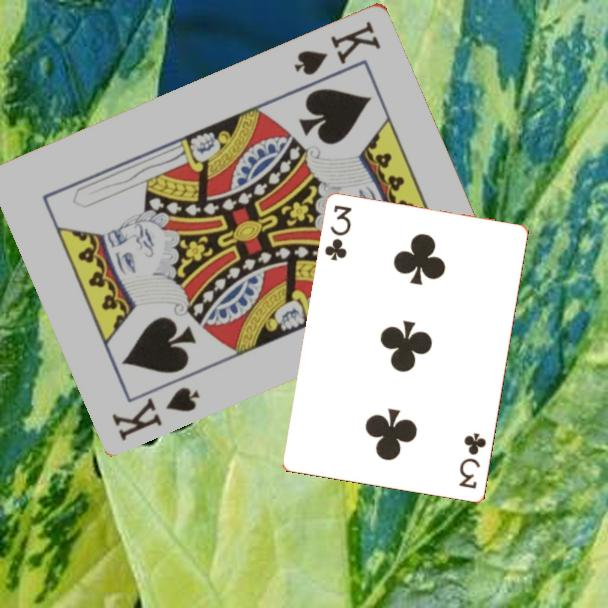c03: (455, 429, 489, 492), (321, 202, 355, 264)
s13: (108, 382, 204, 443), (290, 17, 385, 78)
